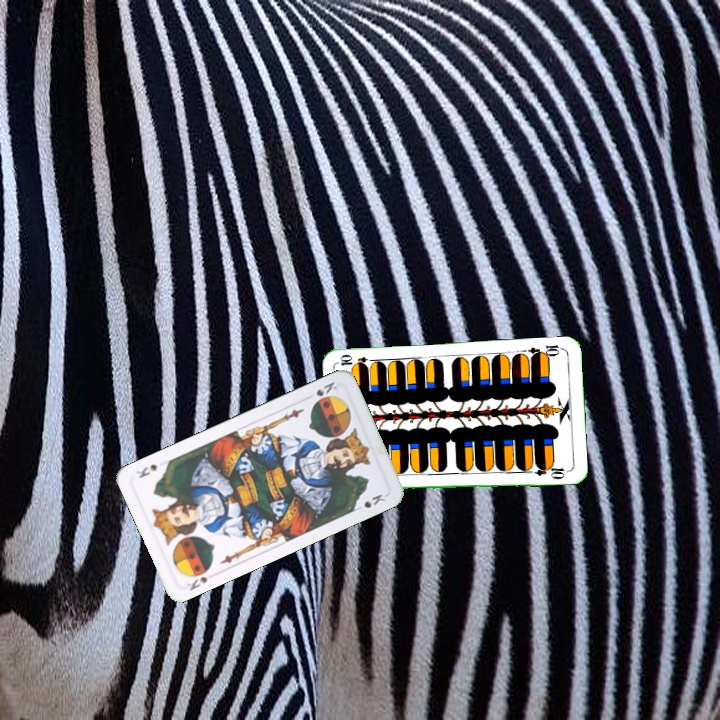E10: (525, 340, 565, 361)
SK: (312, 377, 340, 399), (183, 572, 211, 594)
